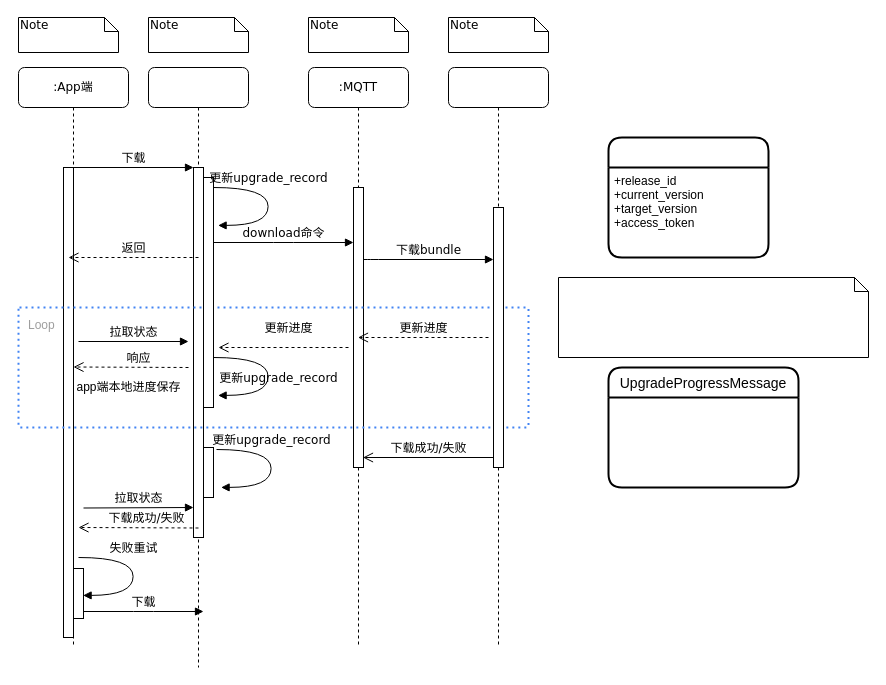
This 886x685 diagram has some shape labels left out. Here are the shapes that lost their labels. From the top down, the box of each, then its label:
(607, 136, 769, 258): DownloadCommond
(558, 276, 868, 358): 更新进度策略：一定窗口时间内(比如：2小时)，按照30秒或者重大进度通知云端；超过2小时，每10分钟/重大进度通知
(148, 66, 248, 668): :OTA云端
(448, 66, 548, 648): :机器人端
